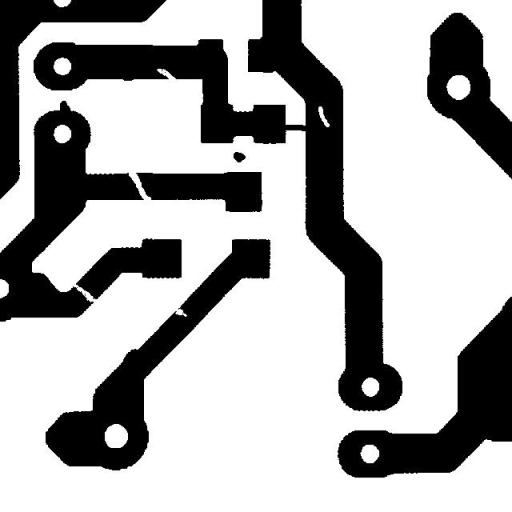copper: (226, 144, 252, 170)
mousebite: (149, 61, 187, 91), (166, 299, 194, 324)
open: (120, 162, 158, 208), (62, 274, 104, 310)
pin-hole: (310, 98, 337, 134)
short: (270, 117, 317, 138)
spur: (52, 93, 78, 123)
